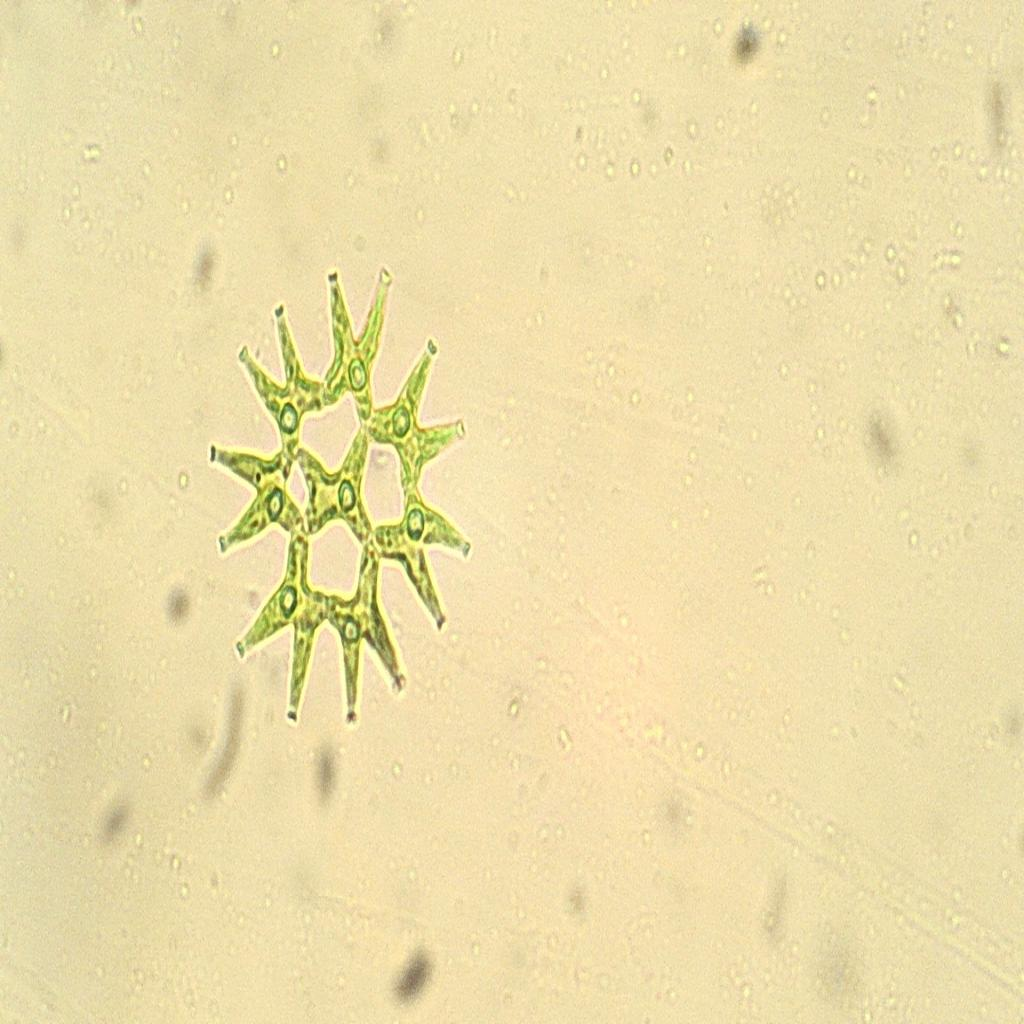Pediastrum_1T: (202, 241, 482, 771)
